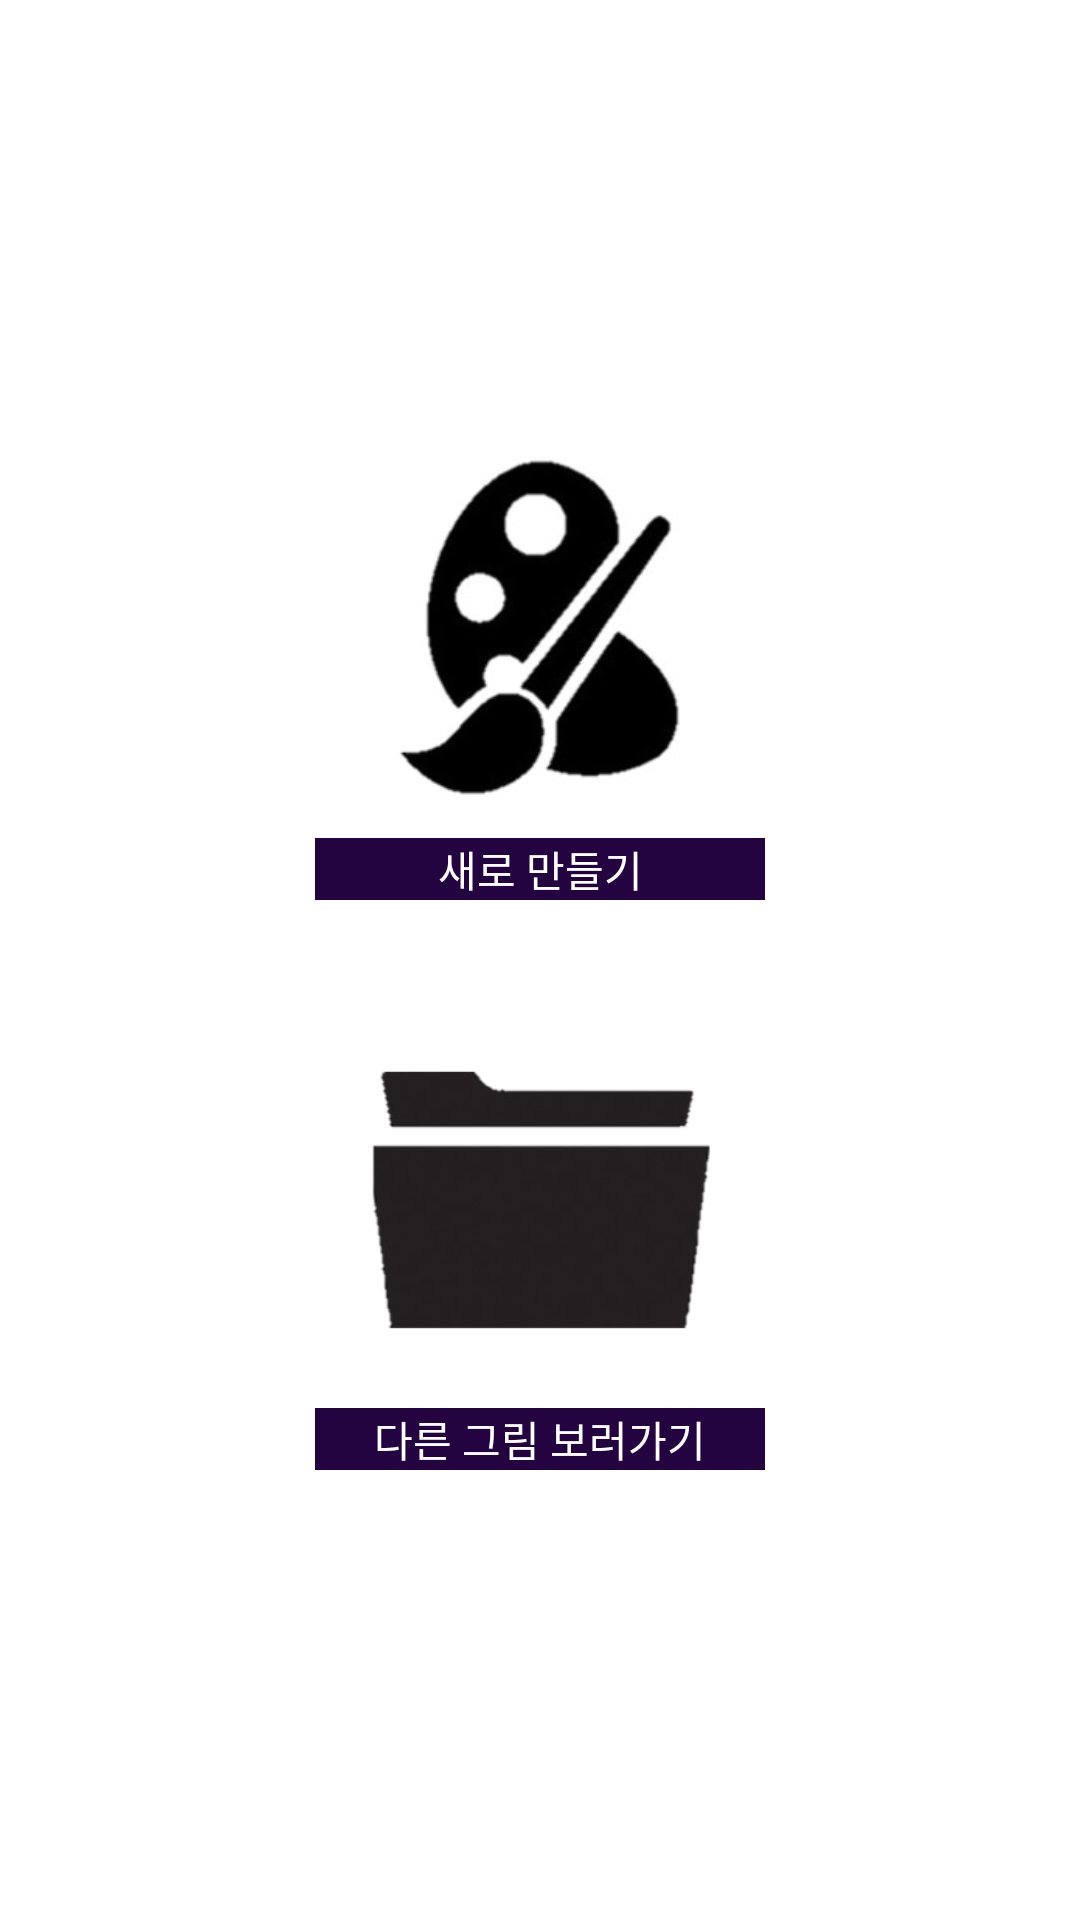

Icons on this 1080w x 1920h Android screen, each with its box as (x1, y1, x2, y2):
folder pictogram iv: (372, 1071, 710, 1329)
paint pictogram iv: (400, 460, 679, 795)
